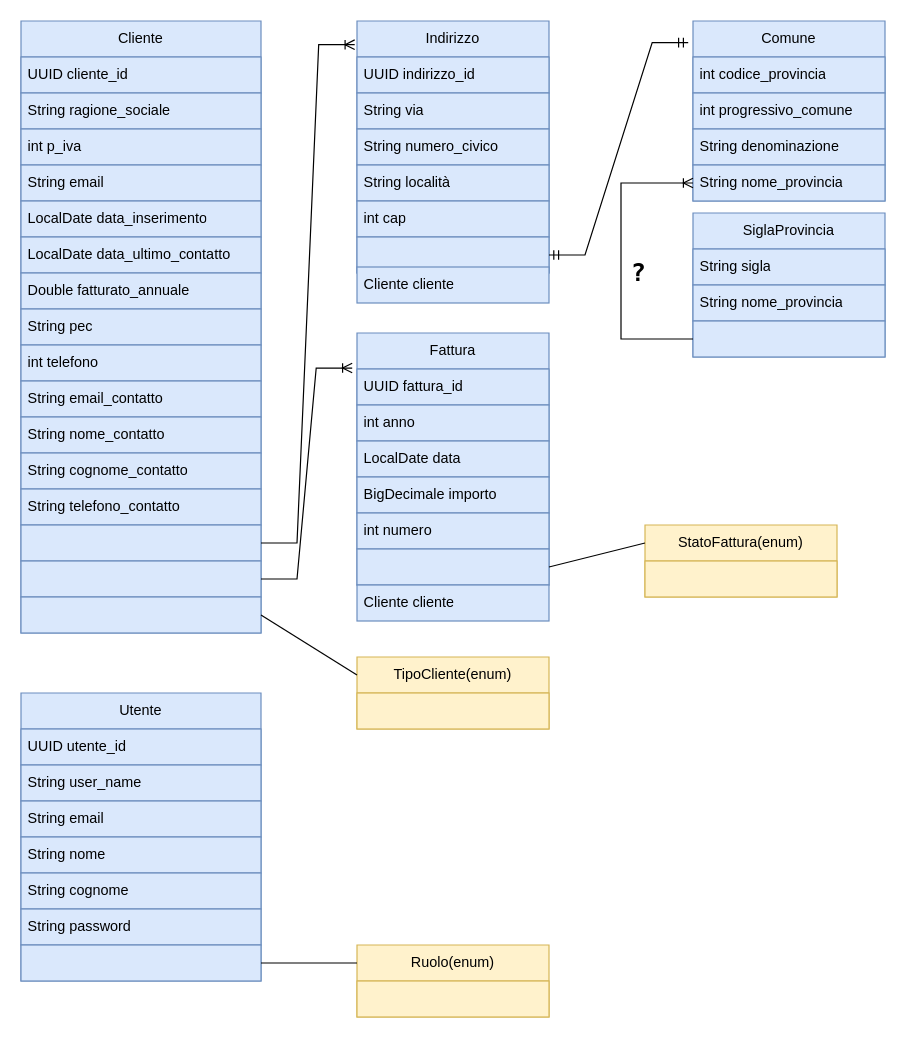
This 906x1038 diagram has some shape labels left out. Each missing label, with the centre of its shape:
"List<Fattura> fatture" goes at pixel 140 578.
"List<Indirizzo> indirizzi" goes at pixel 140 542.
"Ruolo ruolo" goes at pixel 140 962.
"StatoFattura stato" goes at pixel 452 566.
"String comune" goes at pixel 452 254.
"String nome_regione" goes at pixel 788 338.
"String ruolo" goes at pixel 452 998.
"String stato" goes at pixel 740 578.
"String tipo" goes at pixel 452 710.
"TipoCliente cliente" goes at pixel 140 614.
